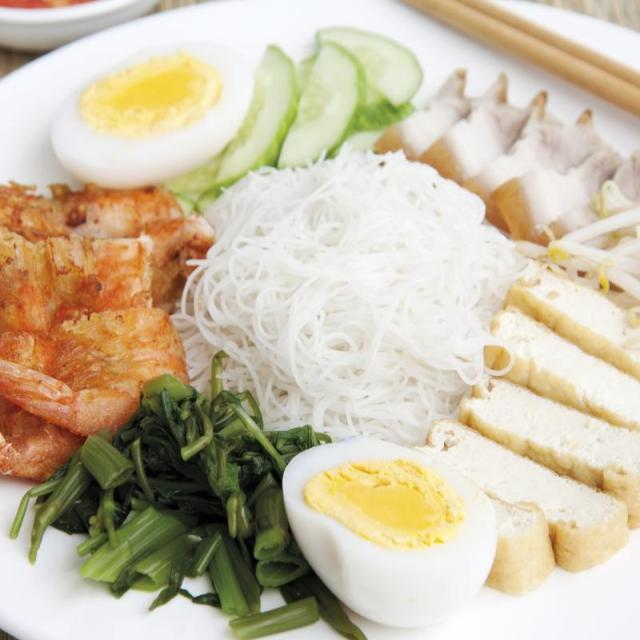Carbohydrate: (180, 144, 525, 433)
Protein: (288, 41, 640, 604), (0, 174, 214, 473)
Taokua: (1, 2, 640, 640)
Vegetable: (24, 366, 342, 634)
